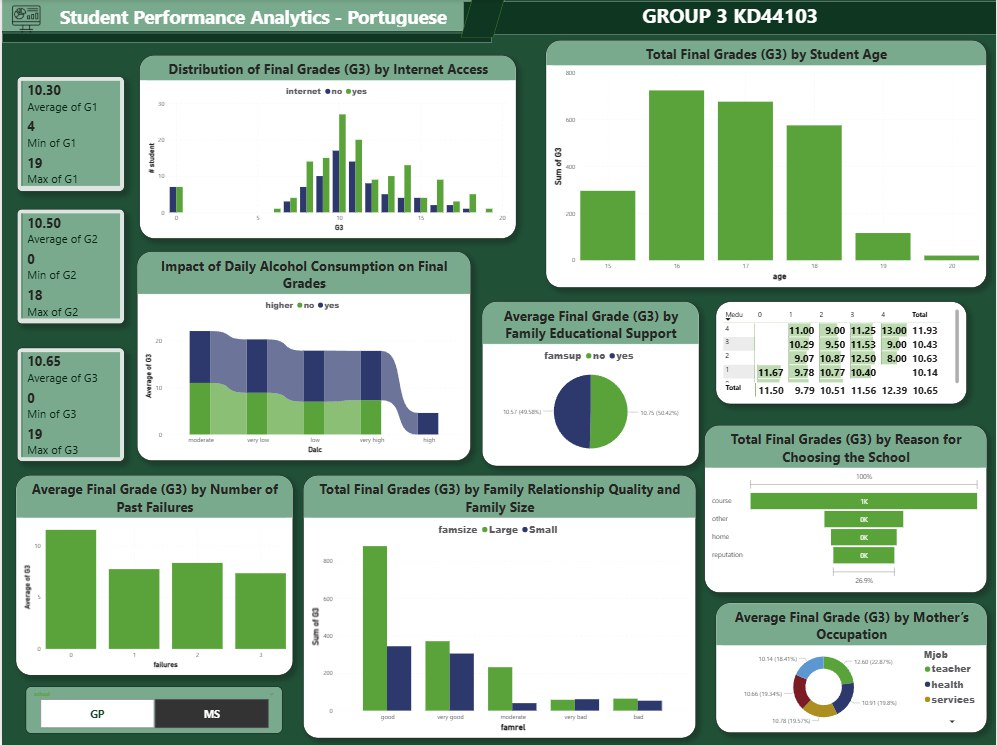

The page's visual inventory and layout, read from the dashboard file:
{"tool":"powerbi","page":{"name":"Student Performance Analytics","canvas":[2000,1500],"ordinal":0},"visuals":[{"type":"image","box":[0,0,98,88],"z":0},{"type":"shape","box":[0,0,1010,64],"z":1000},{"type":"shape","box":[926.7,4.4,1073.3,66.7],"z":2000},{"type":"shape","box":[0,67.9,985.3,20.1],"z":3000},{"type":"shape","box":[922.4,0,88,77.9],"z":4000},{"type":"textbox","title":"Student Performance Analytics - Portuguese","box":[52.8,17.6,869.6,45.2],"z":5000},{"type":"textbox","title":"GROUP 3 KD44103","box":[1121,5,686.2,47.8],"z":6000},{"type":"multiRowCard","fields":{"Values":["Avg(por_clean.G1)","Min(por_clean.G1)","Max(por_clean.G1)1"]},"box":[28.9,155.3,215.8,231.6],"z":7000},{"type":"multiRowCard","fields":{"Values":["Avg(por_clean.G2)","Min(por_clean.G2)","Max(por_clean.G2)"]},"box":[28.9,421.1,215.8,231.6],"z":8000},{"type":"multiRowCard","fields":{"Values":["Avg(por_clean.G3)","Min(por_clean.G3)","Max(por_clean.G3)"]},"box":[28.9,700,215.8,228.9],"z":9000},{"type":"clusteredColumnChart","title":"Distribution of Final Grades (G3) by Internet Access","fields":{"Category":["por_clean.G3"],"Y":["por_clean.# student"],"Series":["por_clean.internet"]},"box":[275.6,113.3,757.8,368.9],"z":10000},{"type":"clusteredColumnChart","title":"Total Final Grades (G3) by Student Age","fields":{"Category":["por_clean.age"],"Y":["Sum(por_clean.G3)"]},"box":[1093.3,82.2,886.7,497.8],"z":11000},{"type":"ribbonChart","title":"Impact of Daily Alcohol Consumption on Final Grades","fields":{"Category":["por_clean.Dalc"],"Y":["Avg(por_clean.G3)"],"Series":["por_clean.higher"]},"box":[271.1,507.9,671.1,421.1],"z":12000},{"type":"clusteredColumnChart","title":"Average Final Grade (G3) by Number of Past Failures","fields":{"Category":["por_clean.failures"],"Y":["Avg(por_clean.G3)"]},"box":[27.6,957.6,558,402.1],"z":13000},{"type":"clusteredColumnChart","title":"Total Final Grades (G3) by Family Relationship Quality and Family Size","fields":{"Series":["por_clean.famsize"],"Y":["Sum(por_clean.G3)"],"Category":["por_clean.famrel"]},"box":[605.3,957.9,789.5,528.9],"z":14000},{"type":"pieChart","title":"Average Final Grade (G3) by Family Educational Support","fields":{"Category":["por_clean.famsup"],"Y":["Avg(por_clean.G3)"]},"box":[965.8,607.9,436.8,331.6],"z":15000},{"type":"donutChart","title":"Average Final Grade (G3) by Mother’s Occupation","fields":{"Y":["Avg(por_clean.G3)"],"Category":["por_clean.Mjob"]},"box":[1435.2,1214,545.4,261.4],"z":16000},{"type":"pivotTable","title":"Average Final Grade (G3) by Parents'' Education Level","fields":{"Rows":["por_clean.Medu"],"Columns":["por_clean.Fedu"],"Values":["Avg(por_clean.G3)"]},"box":[1435.2,608.2,505.2,206.1],"z":17000},{"type":"funnel","title":"Total Final Grades (G3) by Reason for Choosing the School","fields":{"Category":["por_clean.reason"],"Y":["Sum(por_clean.G3)"]},"box":[1412.5,857.1,568,336.8],"z":18000},{"type":"slicer","fields":{"Values":["por_clean.school"]},"box":[48,1382,516,94],"z":19000},{"type":"image","box":[0,0,98,75.4],"z":20000}]}

Visuals, with their boxes in screenshot pixels (x1, y1, x2, y2), scaled from the page's 2000x1500 canvas onto the 997x745 screenshot:
image: box=[0, 0, 49, 44]
shape: box=[0, 0, 503, 32]
shape: box=[462, 2, 996, 35]
shape: box=[0, 34, 491, 44]
shape: box=[460, 0, 504, 39]
"Student Performance Analytics - Portuguese" textbox: box=[26, 9, 460, 31]
"GROUP 3 KD44103" textbox: box=[559, 2, 901, 26]
multiRowCard - Avg(por_clean.G1) x Min(por_clean.G1): box=[14, 77, 122, 192]
multiRowCard - Avg(por_clean.G2) x Min(por_clean.G2): box=[14, 209, 122, 324]
multiRowCard - Avg(por_clean.G3) x Min(por_clean.G3): box=[14, 348, 122, 461]
"Distribution of Final Grades (G3) by Internet Access" clusteredColumnChart: box=[137, 56, 515, 239]
"Total Final Grades (G3) by Student Age" clusteredColumnChart: box=[545, 41, 987, 288]
"Impact of Daily Alcohol Consumption on Final Grades" ribbonChart: box=[135, 252, 470, 461]
"Average Final Grade (G3) by Number of Past Failures" clusteredColumnChart: box=[14, 476, 292, 675]
"Total Final Grades (G3) by Family Relationship Quality and Family Size" clusteredColumnChart: box=[302, 476, 695, 738]
"Average Final Grade (G3) by Family Educational Support" pieChart: box=[481, 302, 699, 467]
"Average Final Grade (G3) by Mother’s Occupation" donutChart: box=[715, 603, 987, 733]
"Average Final Grade (G3) by Parents'' Education Level" pivotTable: box=[715, 302, 967, 404]
"Total Final Grades (G3) by Reason for Choosing the School" funnel: box=[704, 426, 987, 593]
slicer - por_clean.school: box=[24, 686, 281, 733]
image: box=[0, 0, 49, 37]
